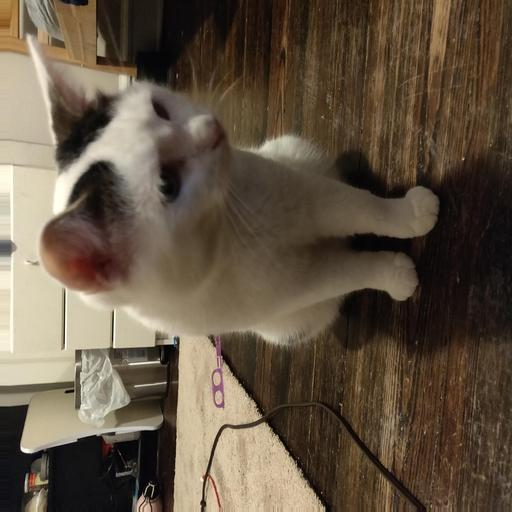cat: (28, 36, 337, 345)
